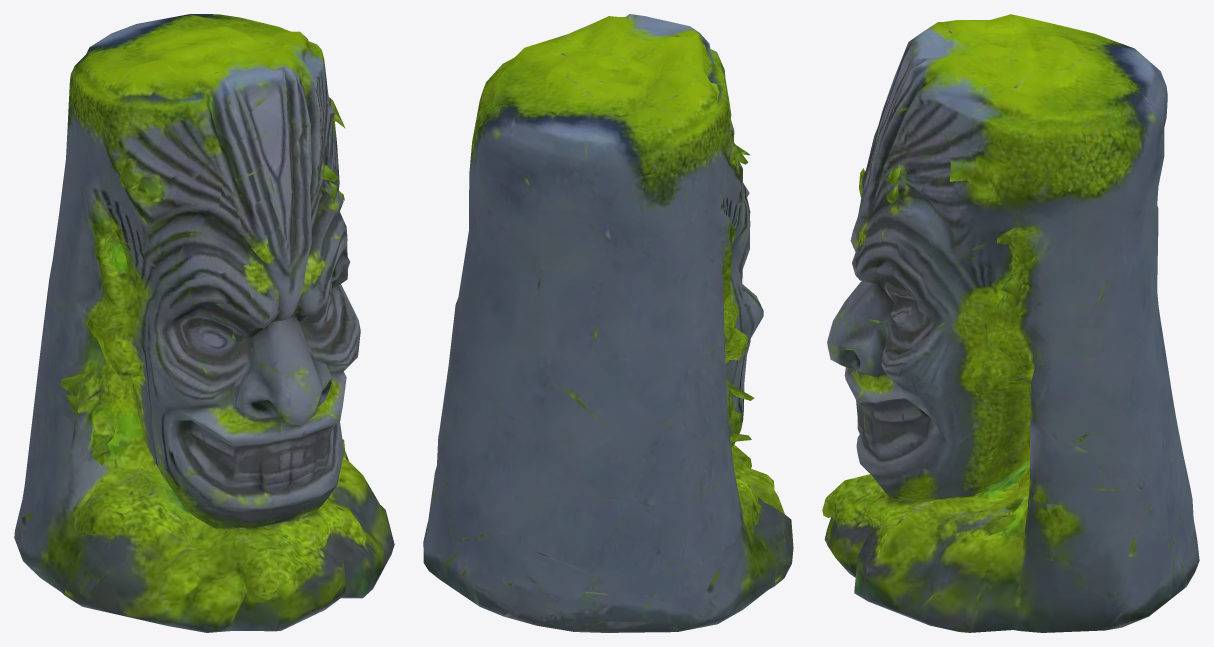
The model's file is mossy_idol.glb.
3 renders of one model, left to right at view 1: azimuth 30°, elevation 25°; view 2: azimuth 150°, elevation 25°; view 3: azimuth 270°, elevation 25°, orthographic.
Visible parts, largest first — view 1: 0; view 2: 0; view 3: 0.
Part boxes in pixels (<box>): 0: <box>14,14,394,632</box>; 0: <box>423,14,793,632</box>; 0: <box>822,14,1199,632</box>.
Bounding box in the file's own units: 1.19 × 1.91 × 1.25.
Materials: 1 (1 with a texture image).
